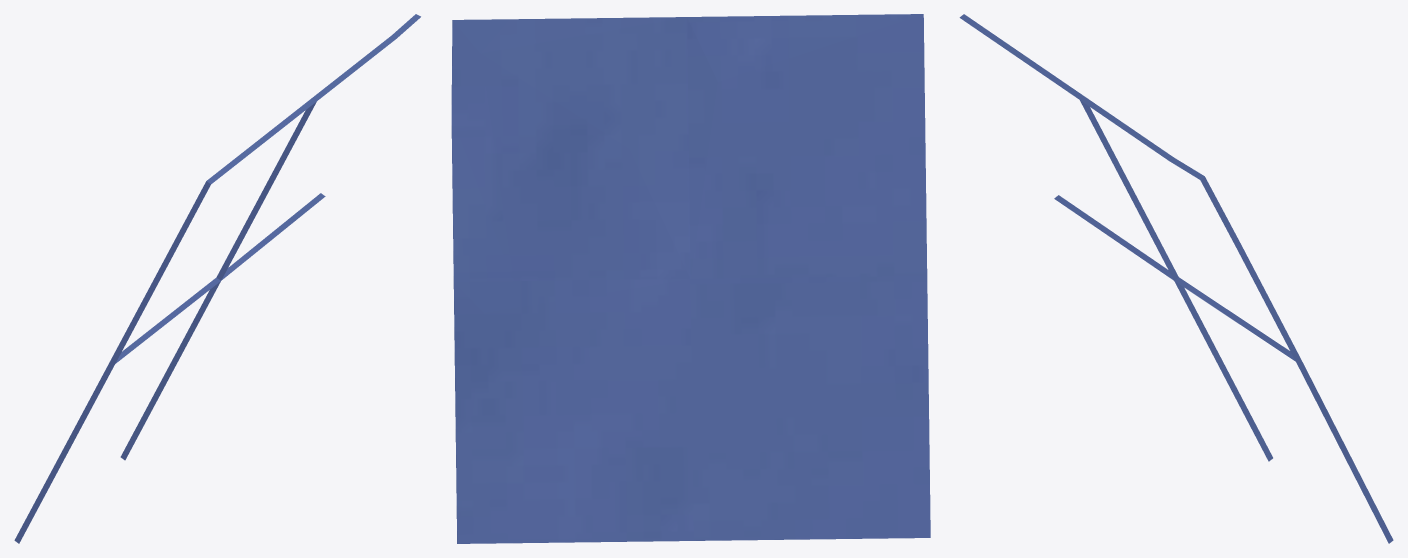
The picture shows the model from 3 angles, left to right: view 1: azimuth 30°, elevation 25°; view 2: azimuth 150°, elevation 25°; view 3: azimuth 270°, elevation 25°; orthographic projection. The views are drawn at different scales.
Bounding box in the file's own units: 19686 × 17747 × 16840.
Materials: 1 (1 with a texture image).
